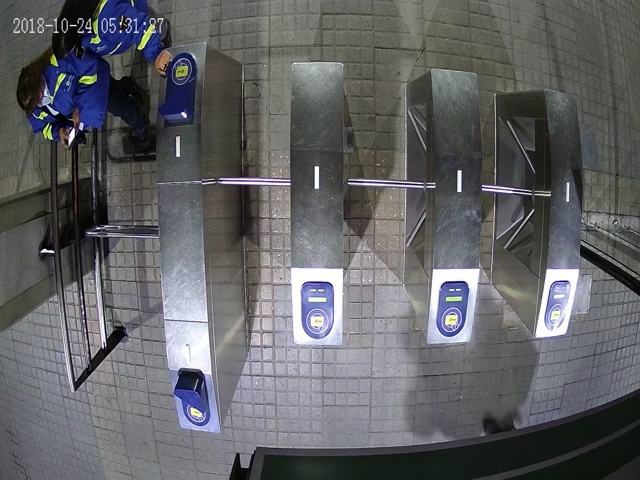Chaleco_azul: (15, 46, 149, 145), (50, 1, 171, 79)
